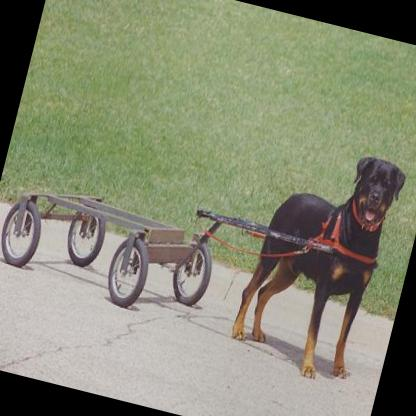Rottweiler: (224, 134, 408, 388)
